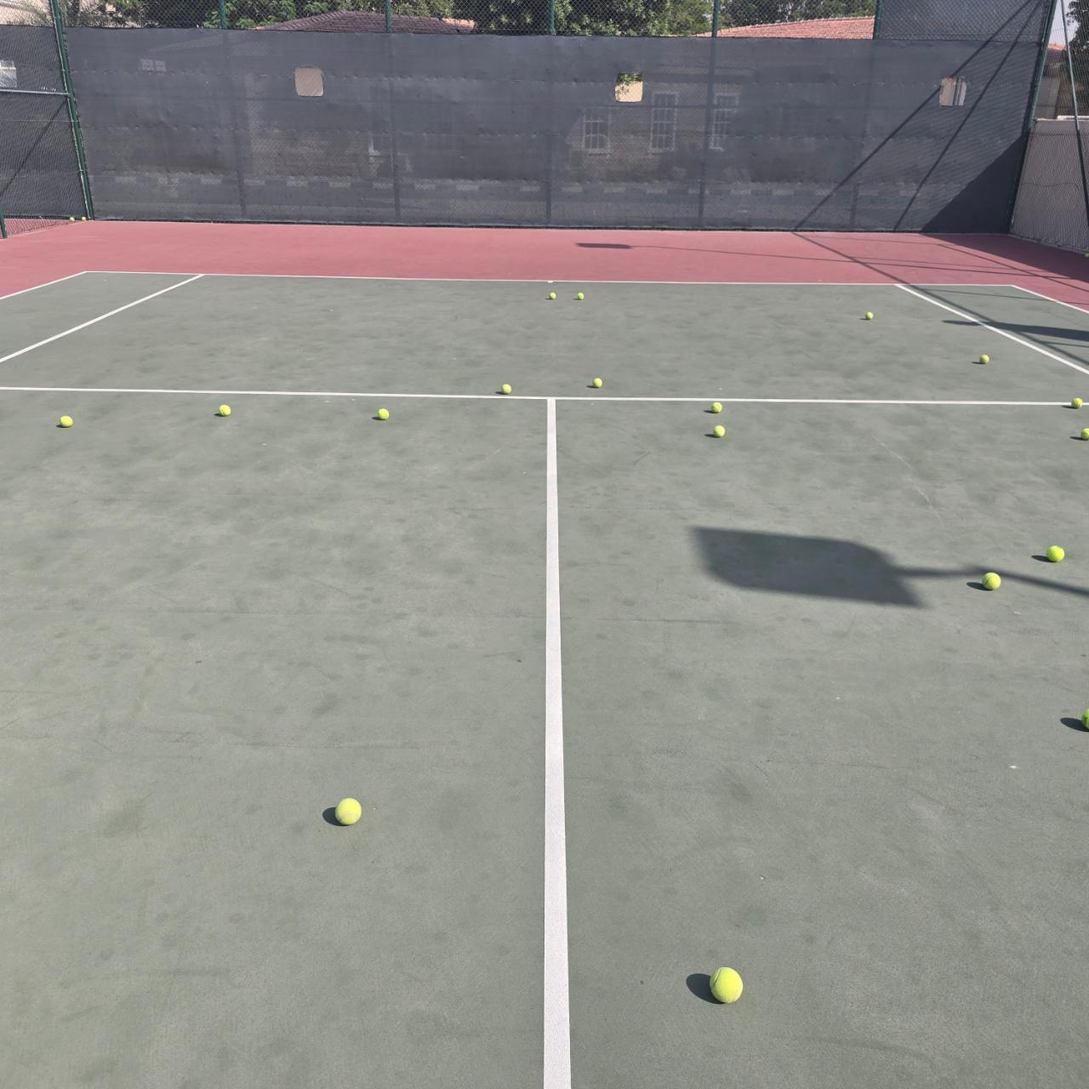tennis-ball: (708, 964, 744, 1003), (334, 795, 362, 825), (980, 570, 1001, 590), (1046, 543, 1064, 562), (374, 406, 390, 420), (218, 403, 231, 416), (713, 423, 726, 436), (710, 401, 723, 414), (1070, 397, 1083, 410), (59, 415, 72, 427), (500, 383, 512, 395), (978, 354, 990, 364), (1080, 427, 1089, 440), (592, 378, 602, 388), (865, 311, 873, 320), (577, 292, 584, 300), (548, 292, 556, 299), (81, 216, 87, 221), (70, 217, 74, 221)
